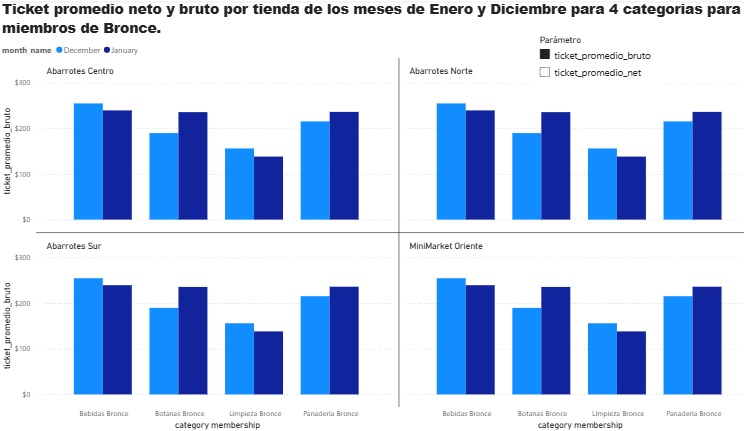

The page's visual inventory and layout, read from the dashboard file:
{"tool":"powerbi","page":{"name":"Página 2","canvas":[1280,720],"ordinal":1},"visuals":[{"type":"clusteredColumnChart","title":"Ticket promedio neto y bruto por tienda de los meses de Enero y Diciembre para 4 categorias para miembros de Bronce.","fields":{"Y":["customer_limpio.ticket_promedio_bruto"],"Category":["raw_products_limpios.category","customer_limpio.membership"],"Series":["dim_date_limpio.month_name"],"Rows":["stores_limpios.store_name"]},"box":[9.5,0,1270.5,719.5],"z":0},{"type":"slicer","fields":{"Values":["Parámetro.Parámetro"]},"box":[893.6,55.3,221.3,110.6],"z":1000}]}

Visuals, with their boxes in screenshot pixels (x1, y1, x2, y2), scaled from the page's 1280x720 canvas onto the 744x431 screenshot:
"Ticket promedio neto y bruto por tienda de los meses de Enero y Diciembre para 4 categorias para miembros de Bronce." clusteredColumnChart: (left=6, top=0, right=743, bottom=430)
slicer - Parámetro.Parámetro: (left=519, top=33, right=648, bottom=99)
